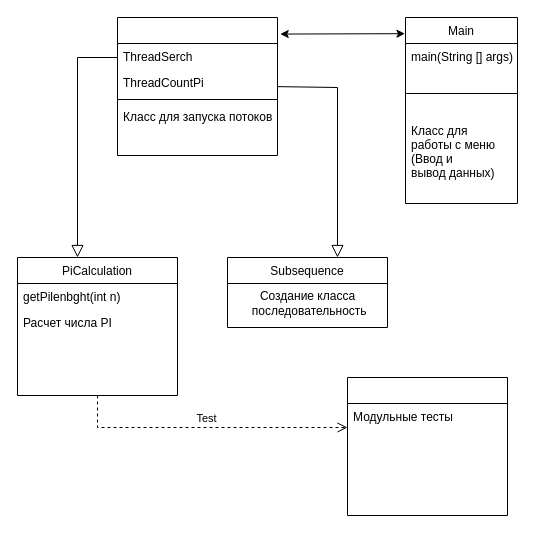
The diagram is 535 pixels wide and 533 high, and some of its shapes have lost their labels. The box of each missing label's shape, as (x1, y1, x2, y2) in pixels:
PiCalculationTest: (346, 376, 508, 516)
workThread: (116, 16, 278, 156)
